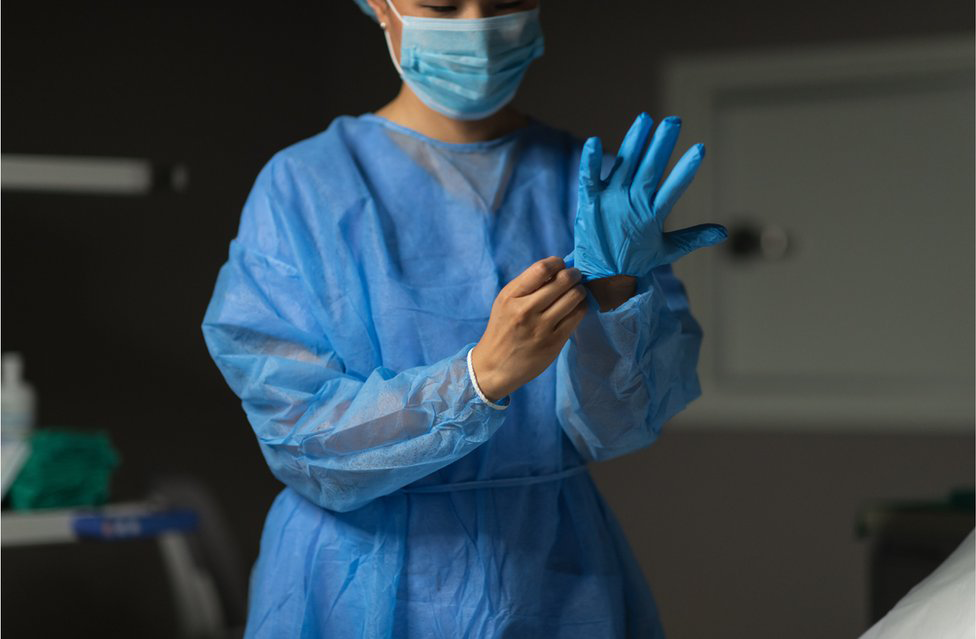Coverall: (220, 124, 673, 639)
Gloves: (566, 110, 724, 297)
with_mask: (388, 1, 561, 114)
